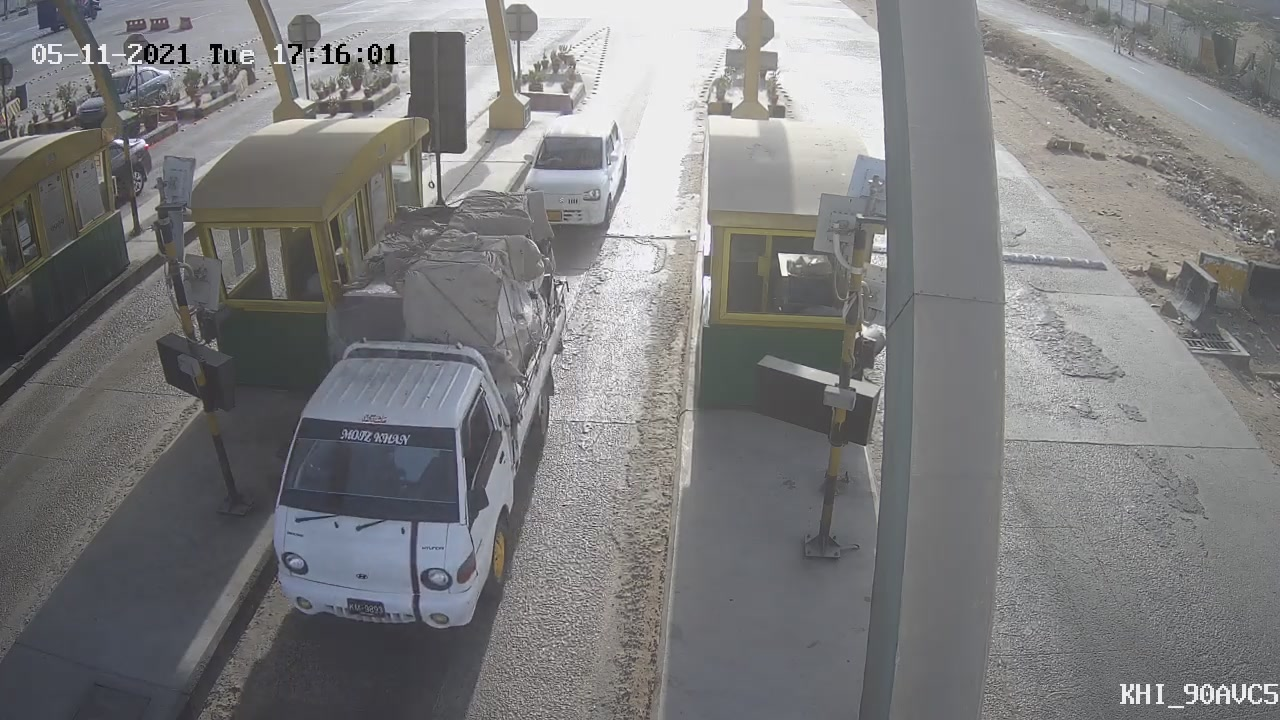F1: (509, 103, 638, 244)
